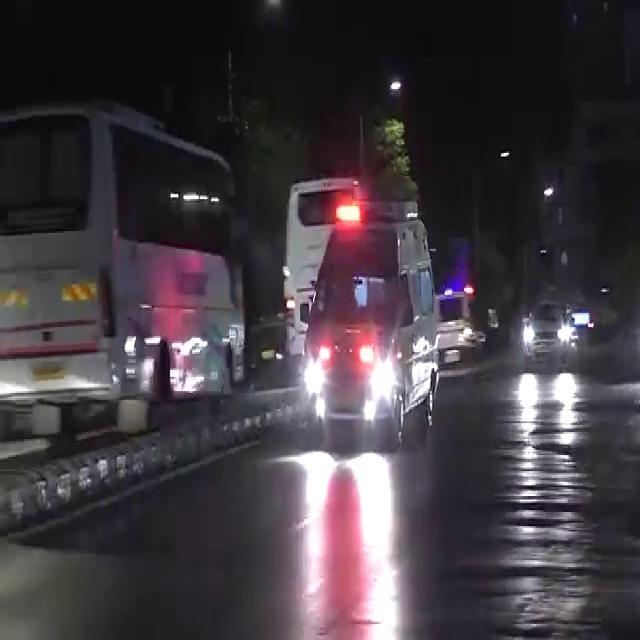ambulance: (308, 202, 444, 440)
